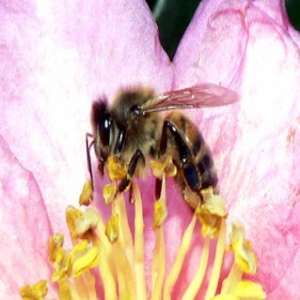bee: (86, 81, 241, 203)
